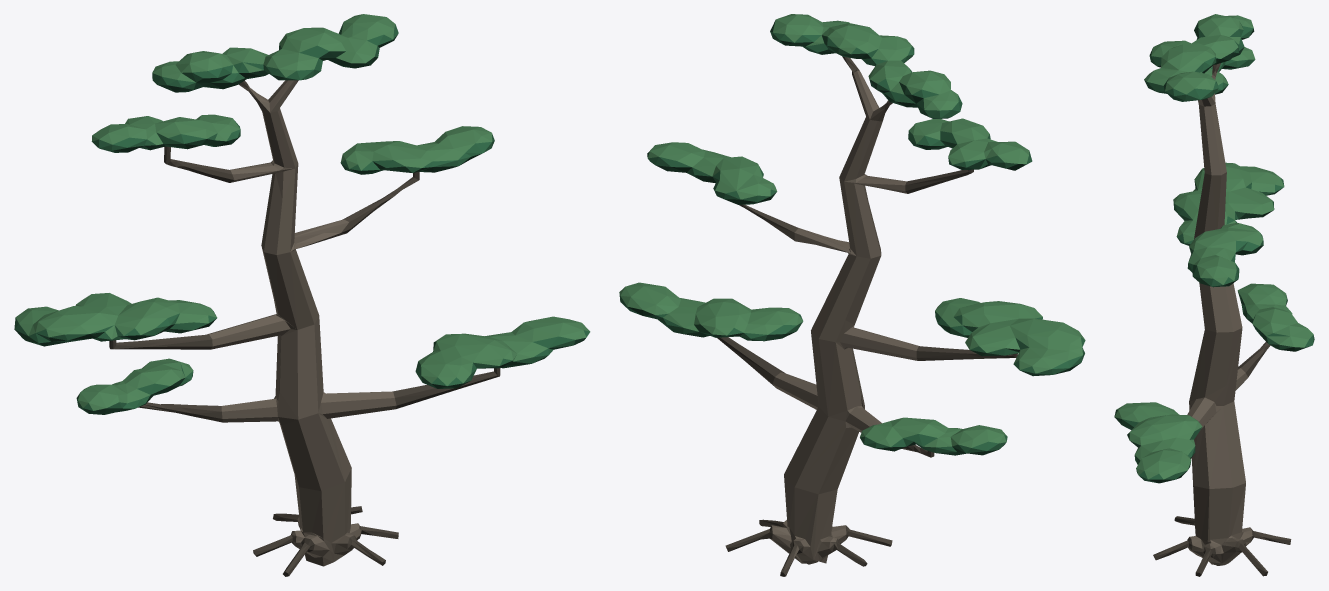
Rendered from ancient-pine-3020-lod1.glb.
3 views of the same model, side by side, from view 1: azimuth 30°, elevation 25°; view 2: azimuth 150°, elevation 25°; view 3: azimuth 270°, elevation 25° (orthographic). The views are drawn at different scales.
Visible parts, largest first — view 1: n12.005, n8.005, n11.005, n9.005, n10.005; view 2: n12.005, n8.005, n11.005, n9.005, n10.005; view 3: n12.005, n8.005, n11.005, n9.005, n10.005.
Part boxes in pixels (<box>): n12.005: <box>15,14,589,410</box>; n8.005: <box>207,80,396,566</box>; n11.005: <box>14,23,589,410</box>; n9.005: <box>109,80,500,576</box>; n10.005: <box>18,34,585,414</box>; n12.005: <box>619,14,1084,447</box>; n8.005: <box>770,71,919,564</box>; n11.005: <box>619,20,1085,453</box>; n9.005: <box>717,56,1017,576</box>; n10.005: <box>622,39,1080,455</box>; n12.005: <box>1114,14,1313,479</box>; n8.005: <box>1187,71,1268,565</box>; n11.005: <box>1114,21,1314,479</box>; n9.005: <box>1153,63,1291,576</box>; n10.005: <box>1123,28,1310,483</box>.
Bounding box in the file's own units: 5.39 × 5.43 × 1.97.
